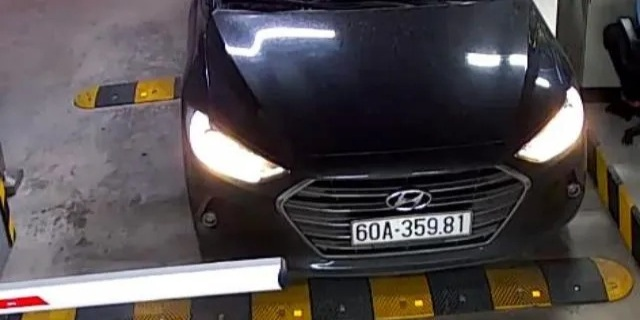bien_so: (352, 214, 469, 242)
